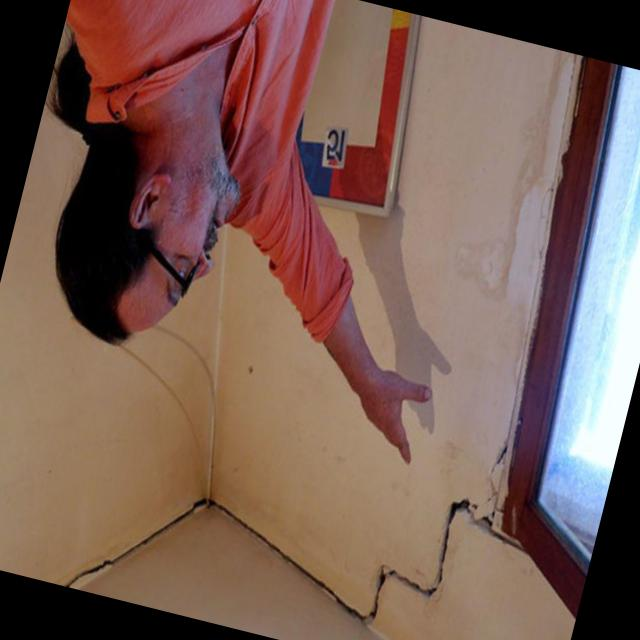crack: (68, 440, 508, 624)
